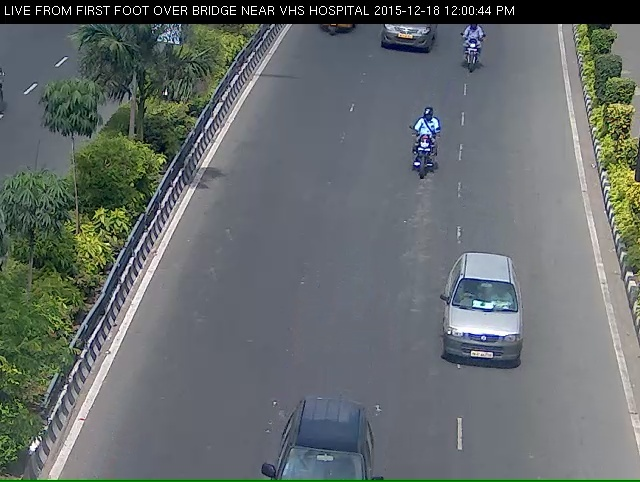Car: (428, 257, 536, 386), (369, 21, 444, 63)
Person: (401, 112, 447, 189), (457, 21, 492, 85)
